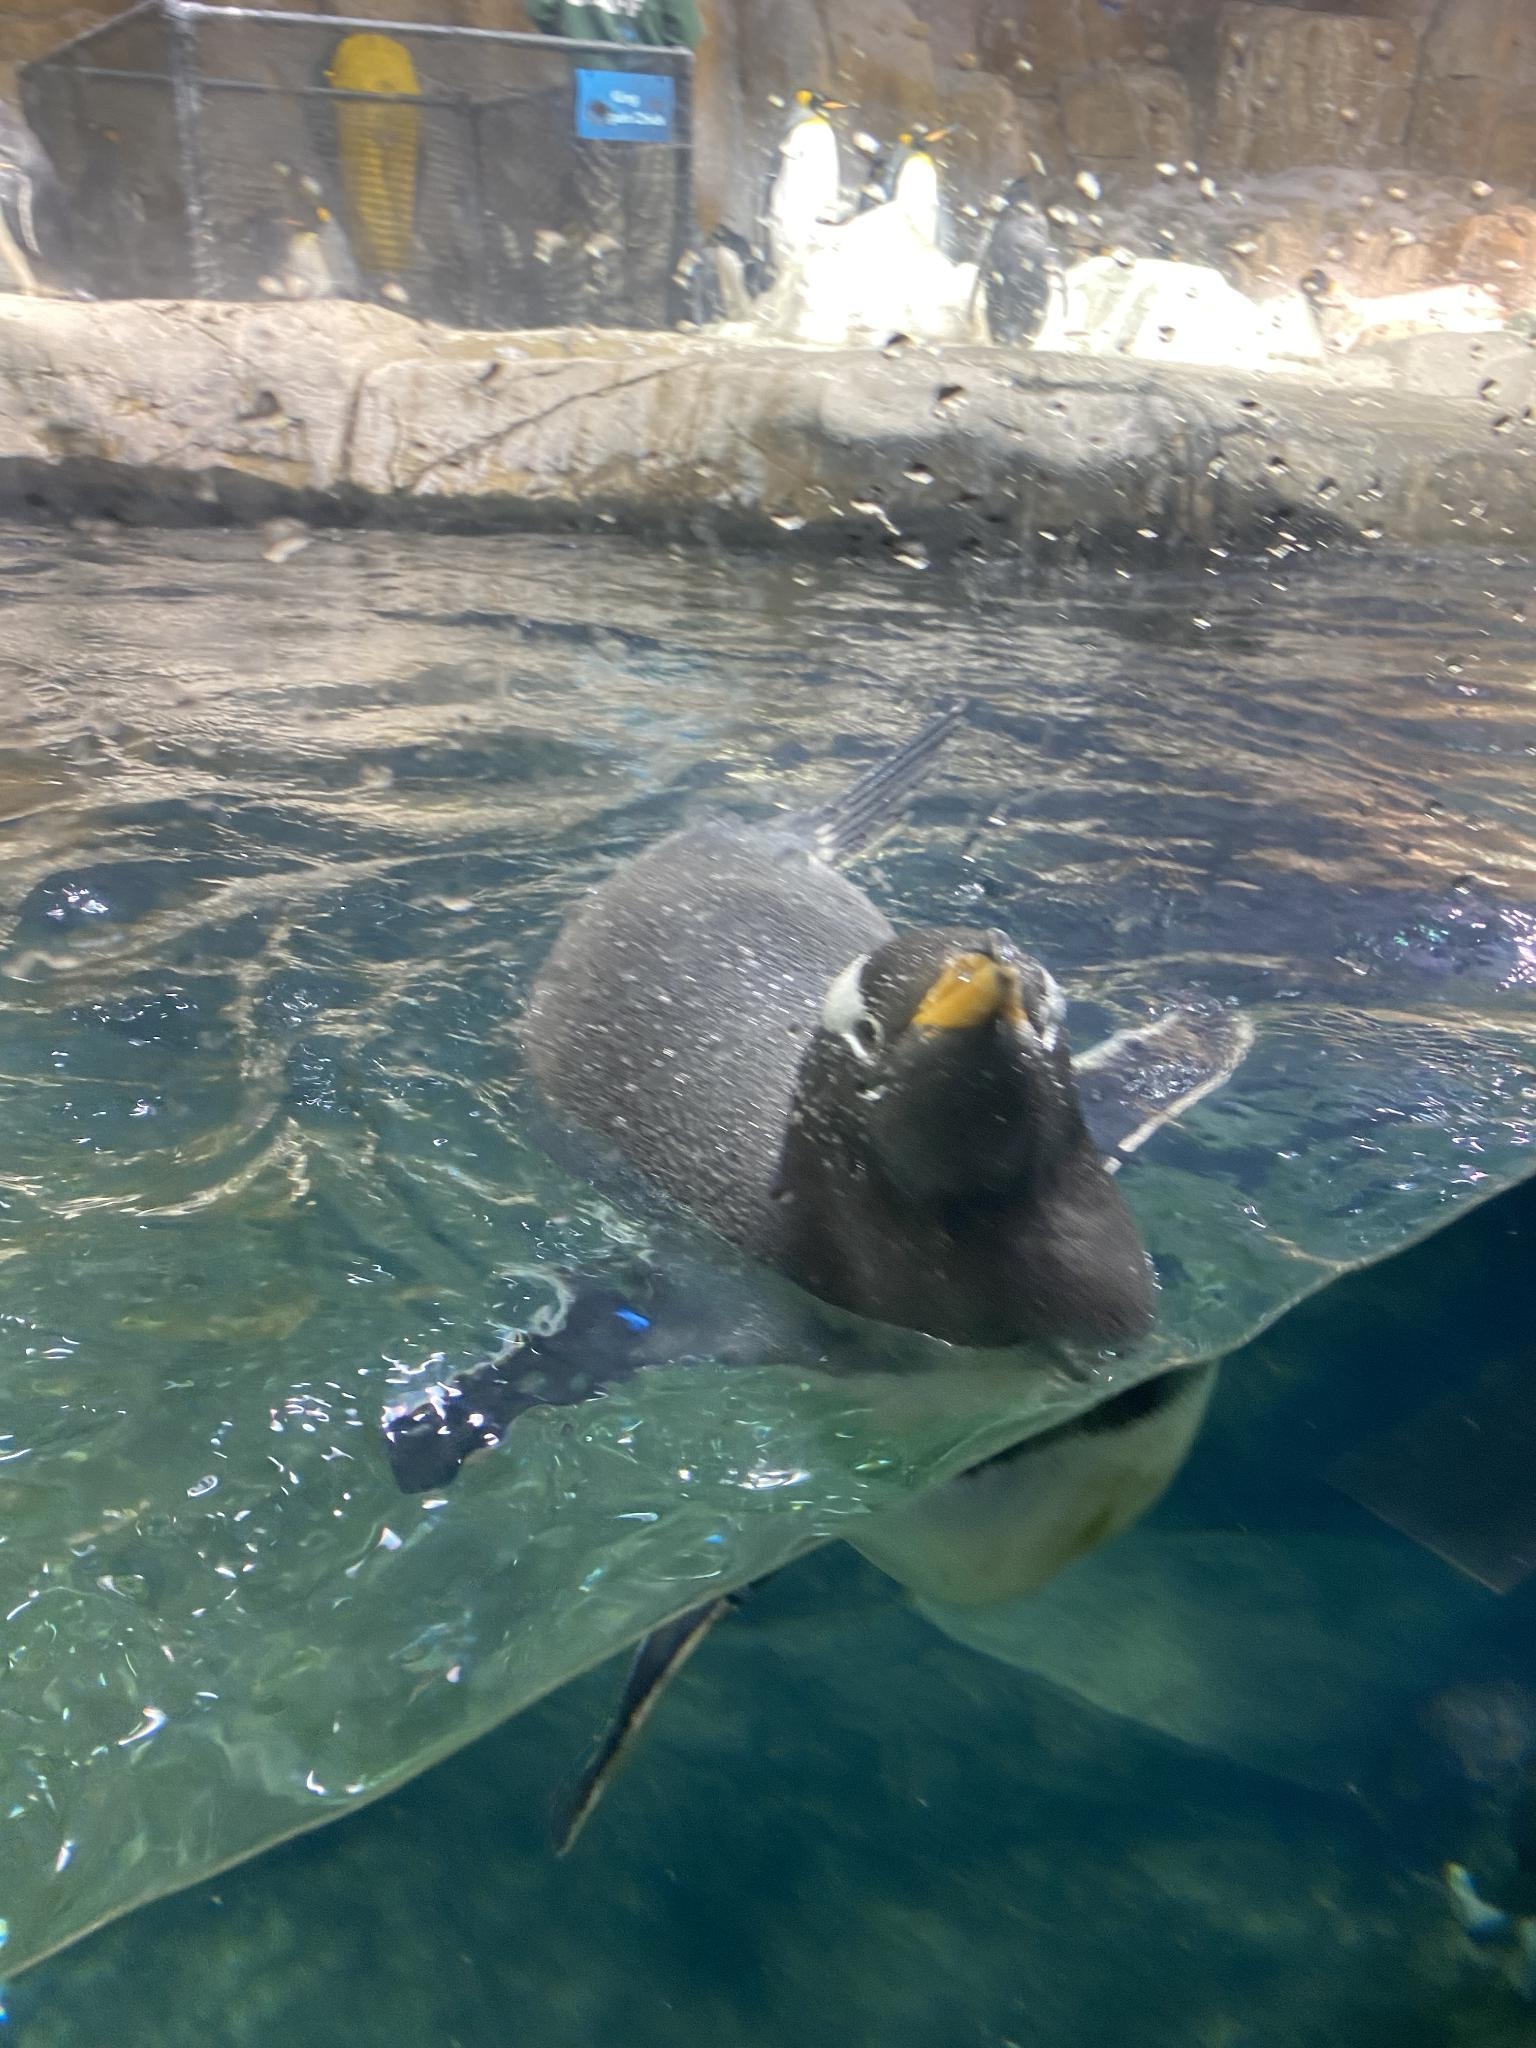penguin: (378, 692, 1258, 1871), (753, 84, 860, 282), (0, 95, 92, 300), (970, 169, 1068, 348), (878, 124, 955, 260), (276, 194, 358, 305)
